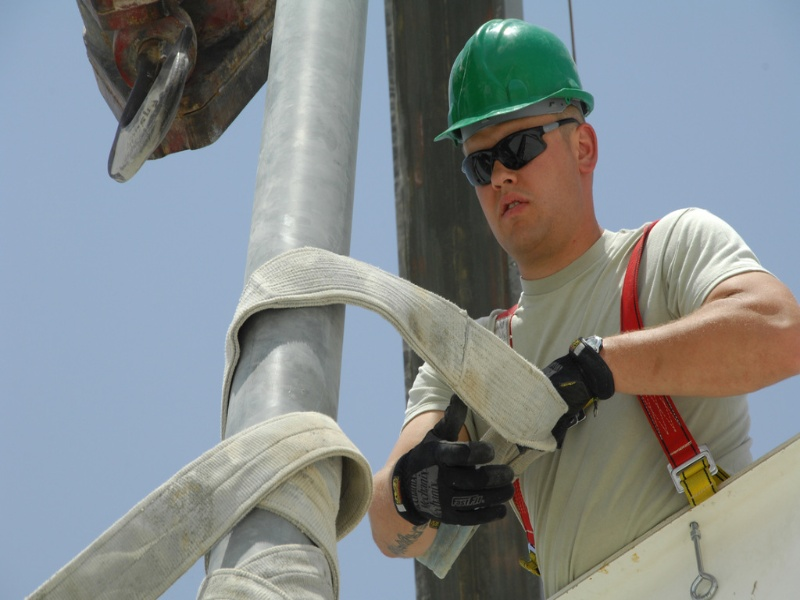Baret: (446, 16, 594, 133)
